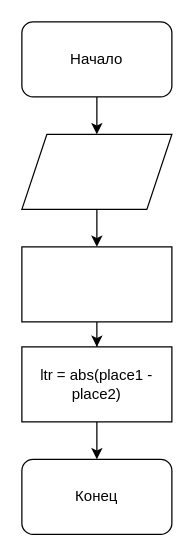
This 194x556 diagram has some shape labels left out. Each missing label, with the centre of its shape:
letter1 letter2: pixel 96 171
place1 = ord(letter1) place2 = ord(letter2): pixel 96 284
